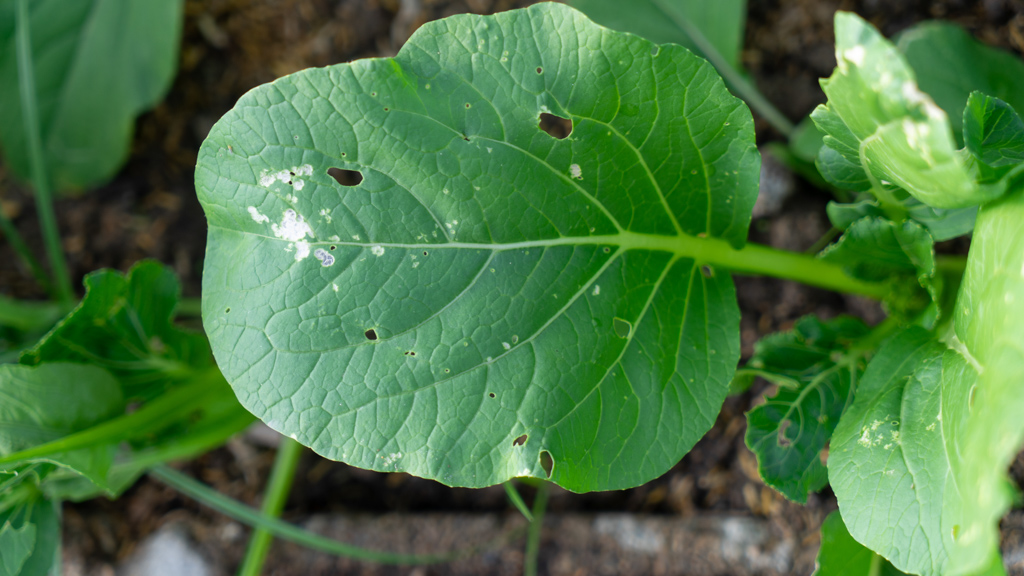Canker: (230, 153, 409, 288), (848, 410, 928, 459)
